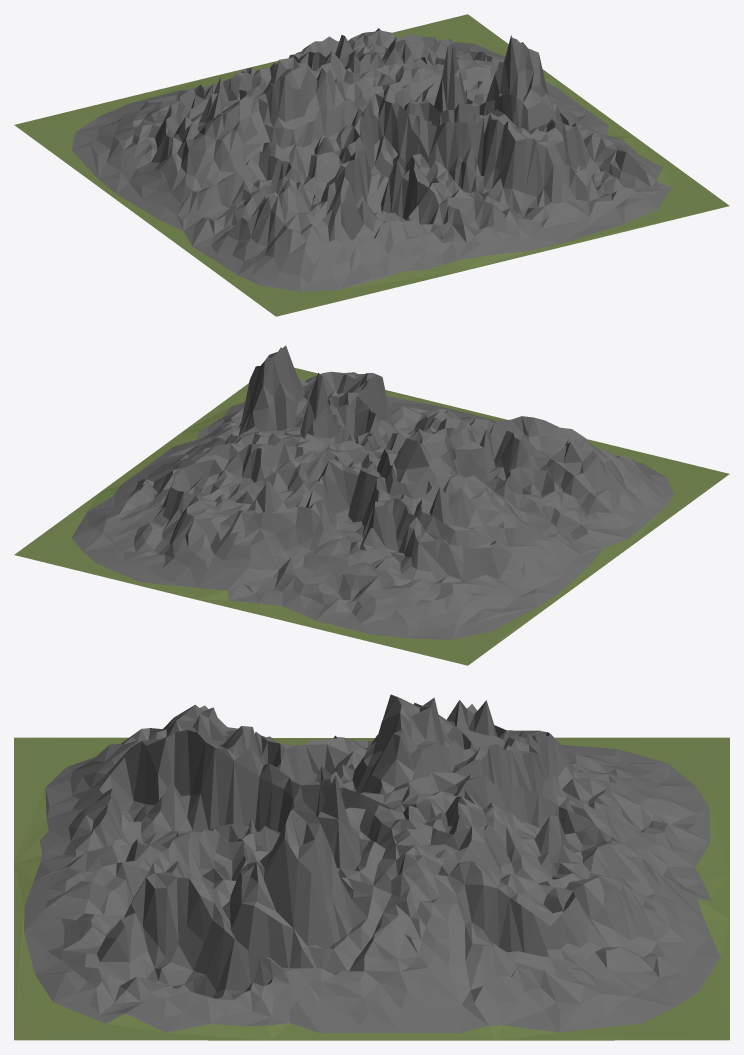
File: Terrain_13.fbx
3 renders of one model, top to bottom at view 1: azimuth 30°, elevation 25°; view 2: azimuth 150°, elevation 25°; view 3: azimuth 270°, elevation 25°, orthographic. The views are drawn at different scales.
Parts seen in each view (by area): view 1: Terrain_13; view 2: Terrain_13; view 3: Terrain_13.
Part boxes in pixels (x1,y1,x2,y2): Terrain_13: (14,14,729,316); Terrain_13: (14,345,729,665); Terrain_13: (14,694,729,1040).
Bounding box in the file's own units: 20000 × 5954 × 20000.
